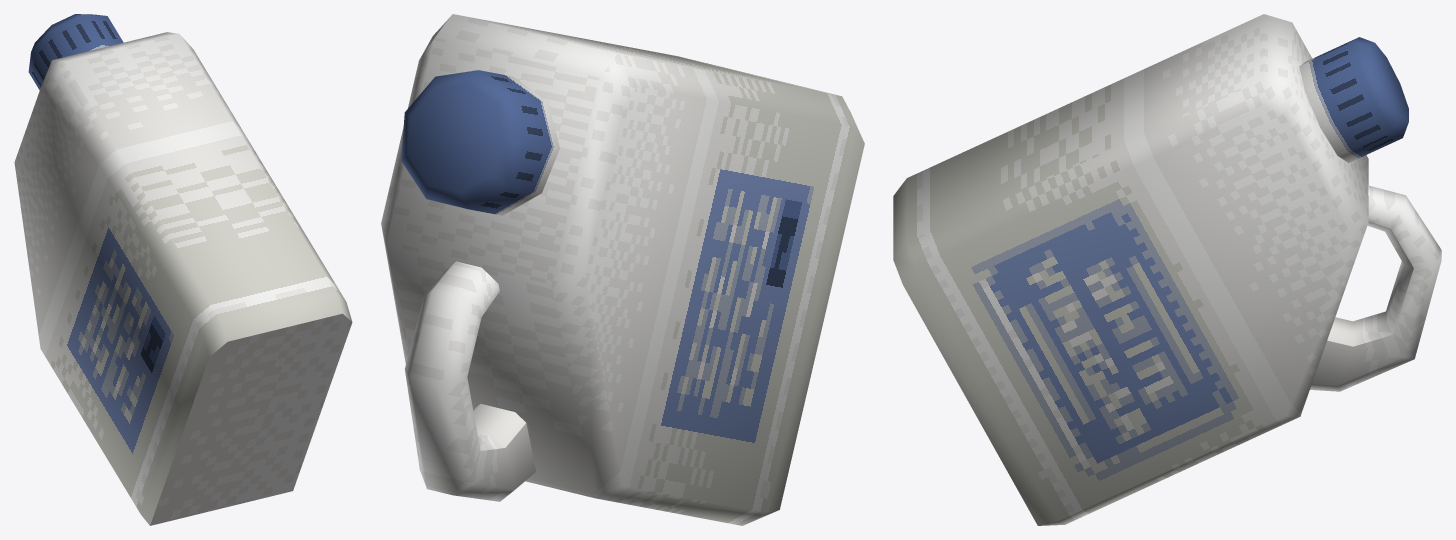
Rendered from VinegarJug_Hand.fbx.
3 views of the same model, side by side, from view 1: azimuth 30°, elevation 25°; view 2: azimuth 150°, elevation 25°; view 3: azimuth 270°, elevation 25° (orthographic). The views are drawn at different scales.
Parts seen in each view (by area): view 1: Vinegar_Jug; view 2: Vinegar_Jug; view 3: Vinegar_Jug.
Boxes of the visible parts, left/top/right/bottom form: Vinegar_Jug: left=14, top=14, right=352, bottom=525; Vinegar_Jug: left=381, top=14, right=864, bottom=525; Vinegar_Jug: left=893, top=14, right=1441, bottom=525.
Bounding box in the file's own units: 0.0731 × 0.194 × 0.2136.
